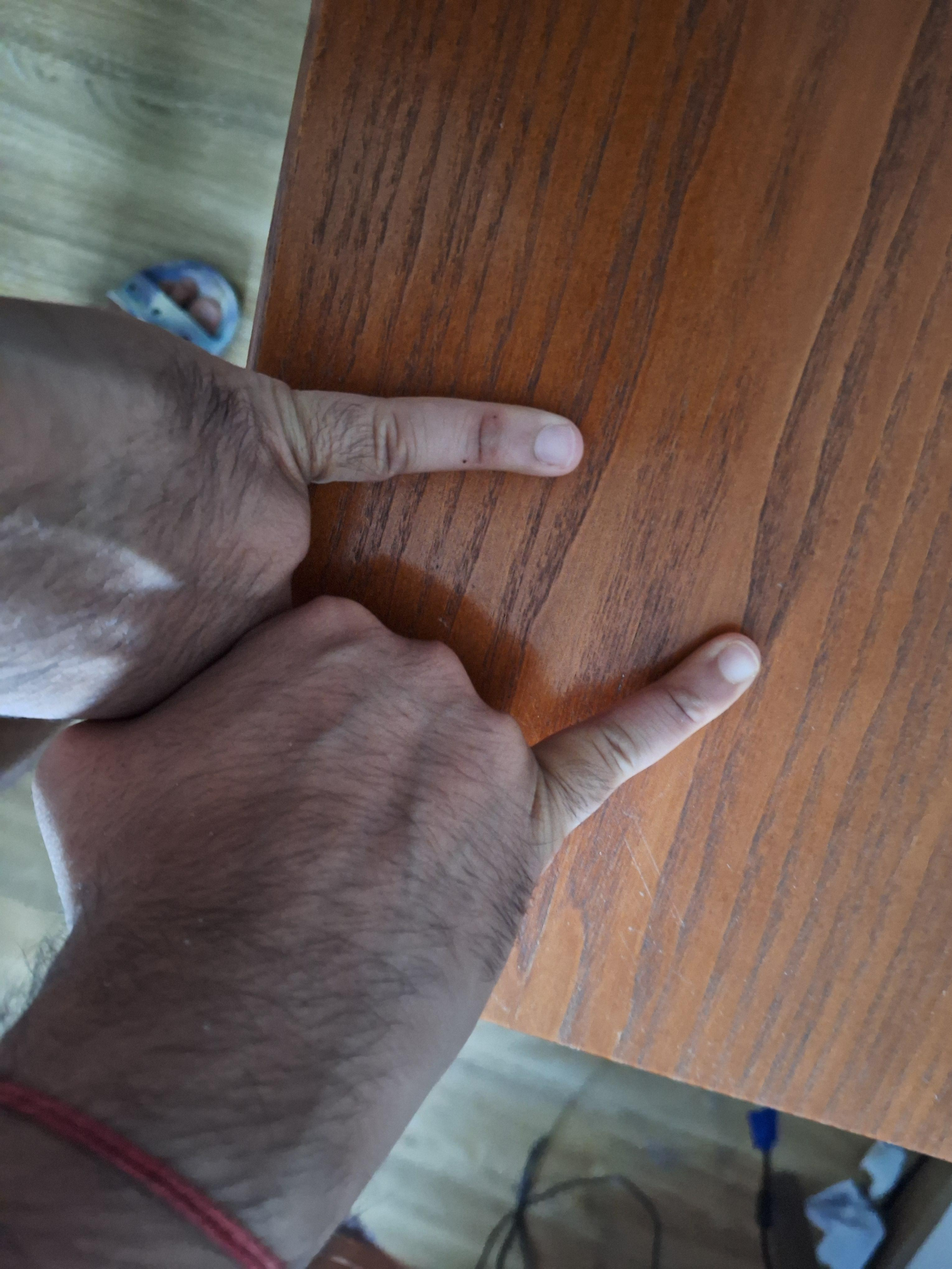Fingernail: (719, 640, 760, 684), (534, 426, 575, 468)
